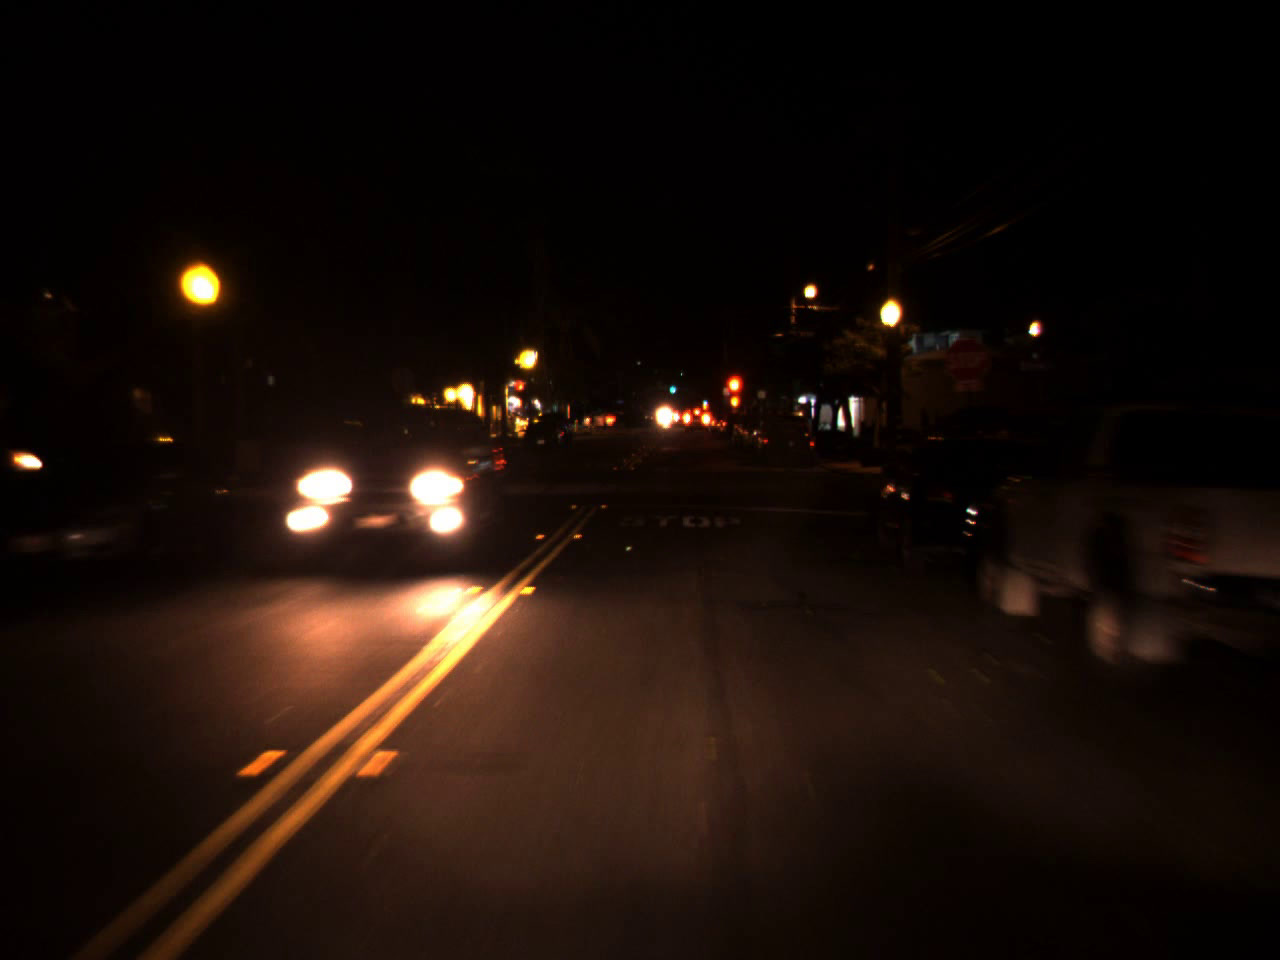go: (667, 379, 676, 394)
stop: (727, 377, 745, 409), (511, 378, 526, 402)
